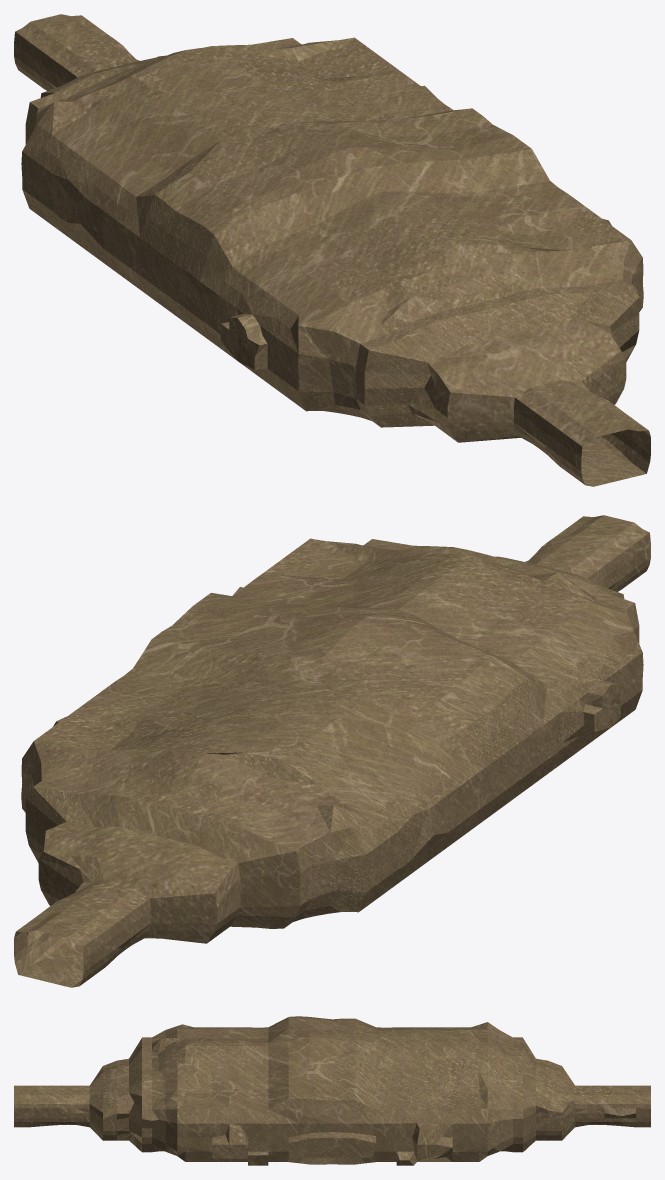
File: cave_base.glb
3 renders of one model, top to bottom at view 1: azimuth 30°, elevation 25°; view 2: azimuth 150°, elevation 25°; view 3: azimuth 270°, elevation 25°, orthographic. The views are drawn at different scales.
Visible parts, largest first — view 1: cave_base; view 2: cave_base; view 3: cave_base.
Part boxes in pixels (<box>): cave_base: <box>14,14,650,486</box>; cave_base: <box>14,515,650,987</box>; cave_base: <box>14,1016,650,1165</box>.
Bounding box in the file's own units: 73.35 × 26.36 × 188.
Materials: 1 (1 with a texture image).
